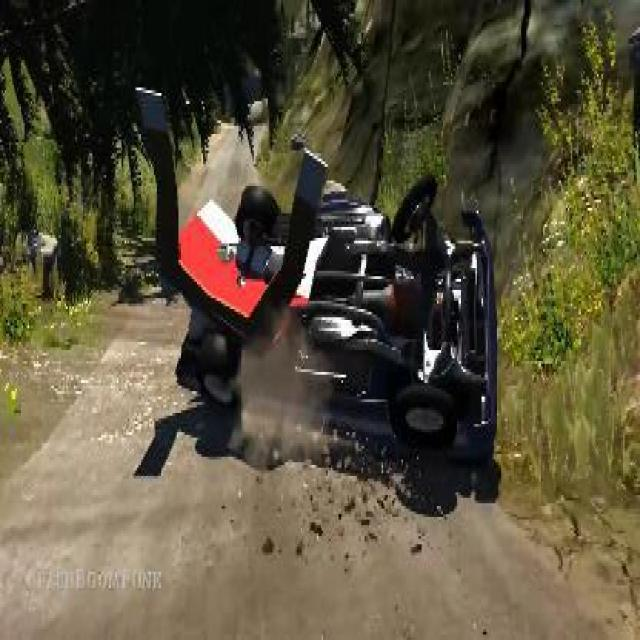accident: (151, 134, 498, 495)
